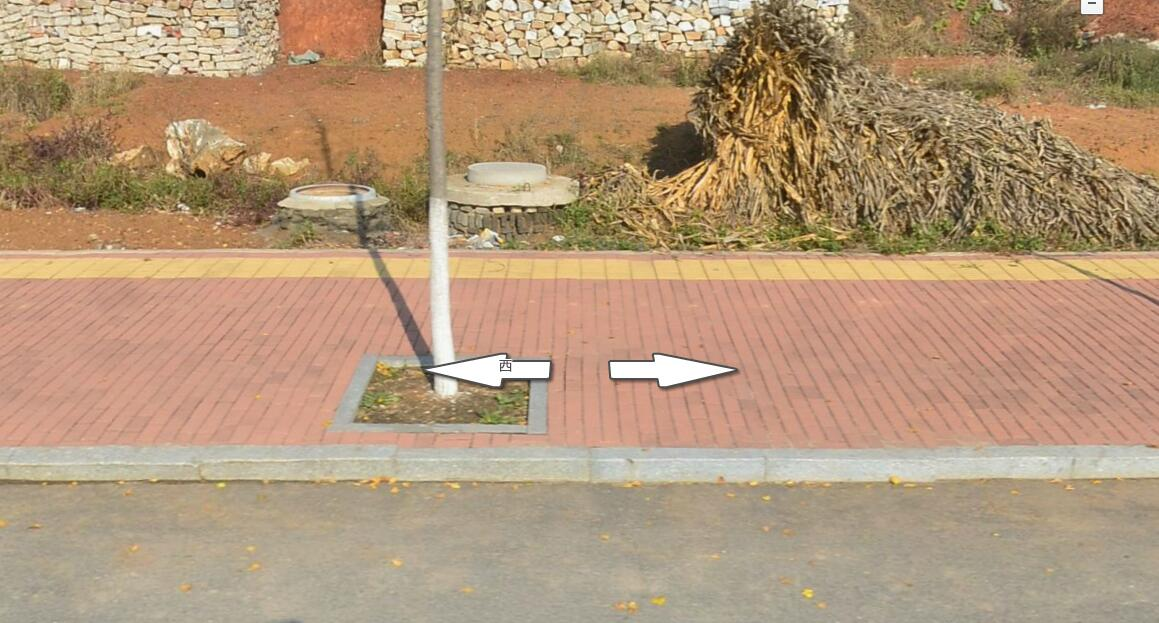side: (199, 445, 397, 482), (395, 447, 592, 484), (4, 445, 200, 479), (590, 447, 766, 484), (767, 447, 934, 481), (932, 446, 1078, 480)
